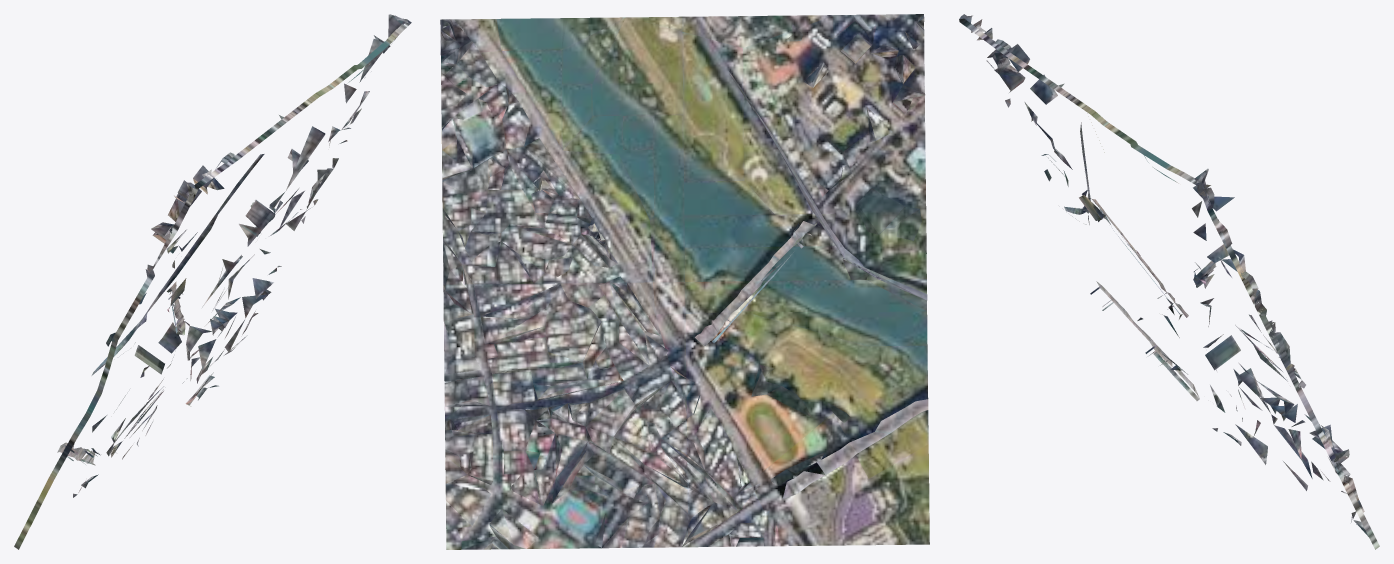
3 renders of one model, left to right at view 1: azimuth 30°, elevation 25°; view 2: azimuth 150°, elevation 25°; view 3: azimuth 270°, elevation 25°, orthographic. The views are drawn at different scales.
Size of the model in its own units: 1220 by 1129 by 1028.
Materials: 1 (1 with a texture image).
